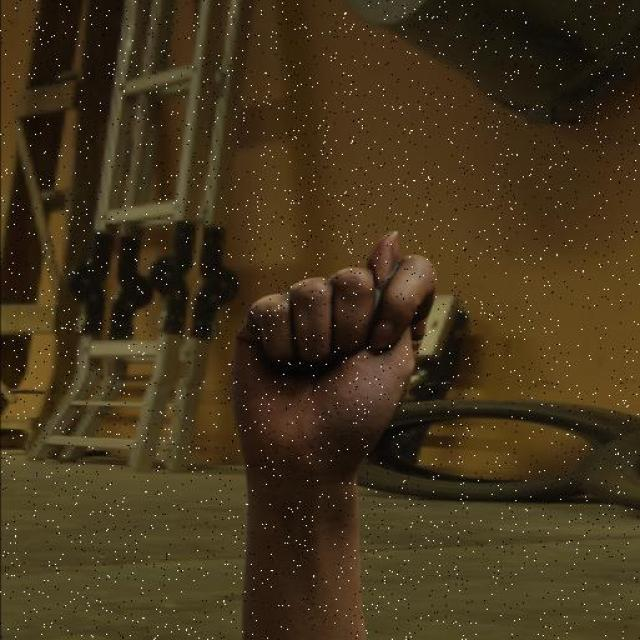T: (227, 225, 439, 476)
